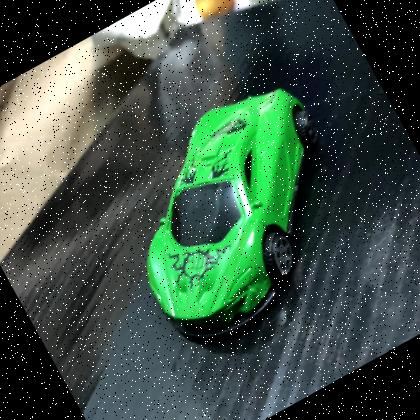Car: (146, 89, 322, 348)
